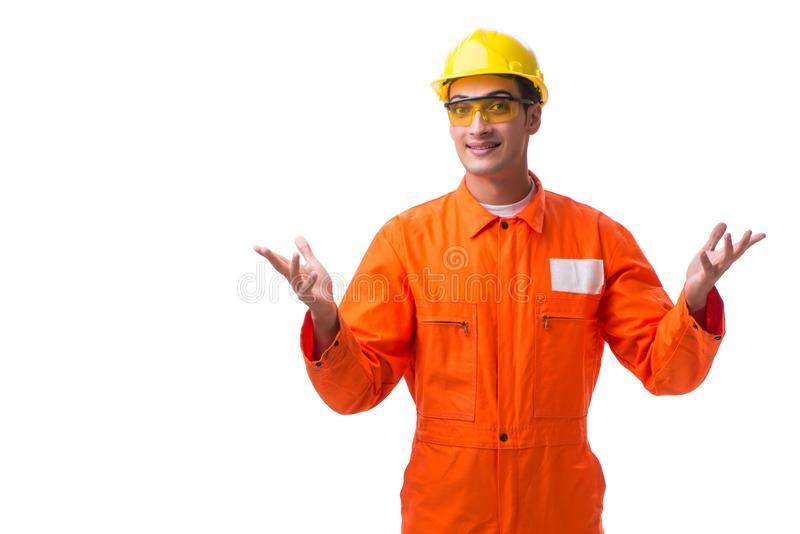helmet: (429, 30, 553, 106)
